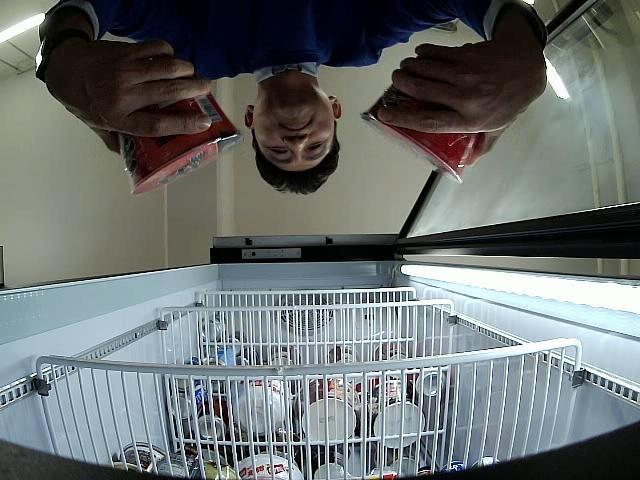01_ShinRamen_L: (362, 58, 492, 184), (118, 89, 242, 198)
